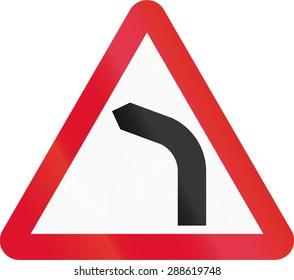Left hand curve: (31, 19, 283, 260)
